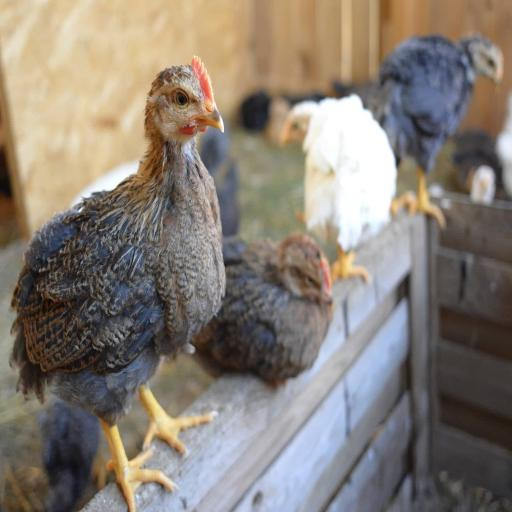disease: (163, 76, 204, 146)
